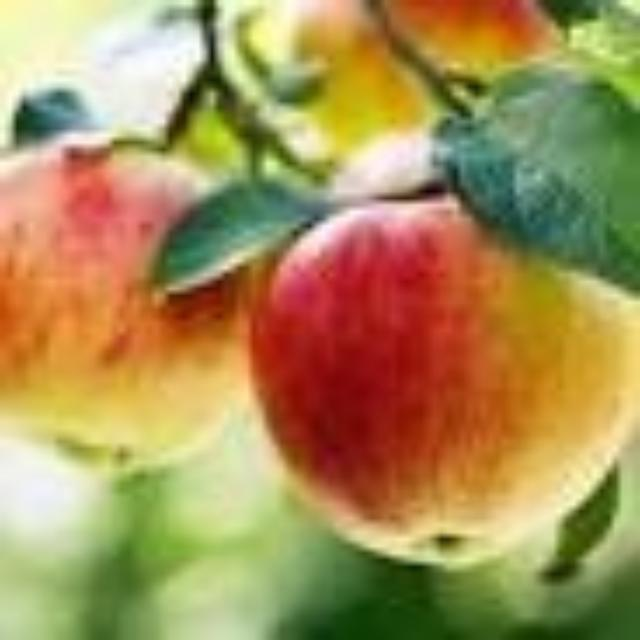Apple: (255, 199, 640, 559), (0, 140, 194, 372)
